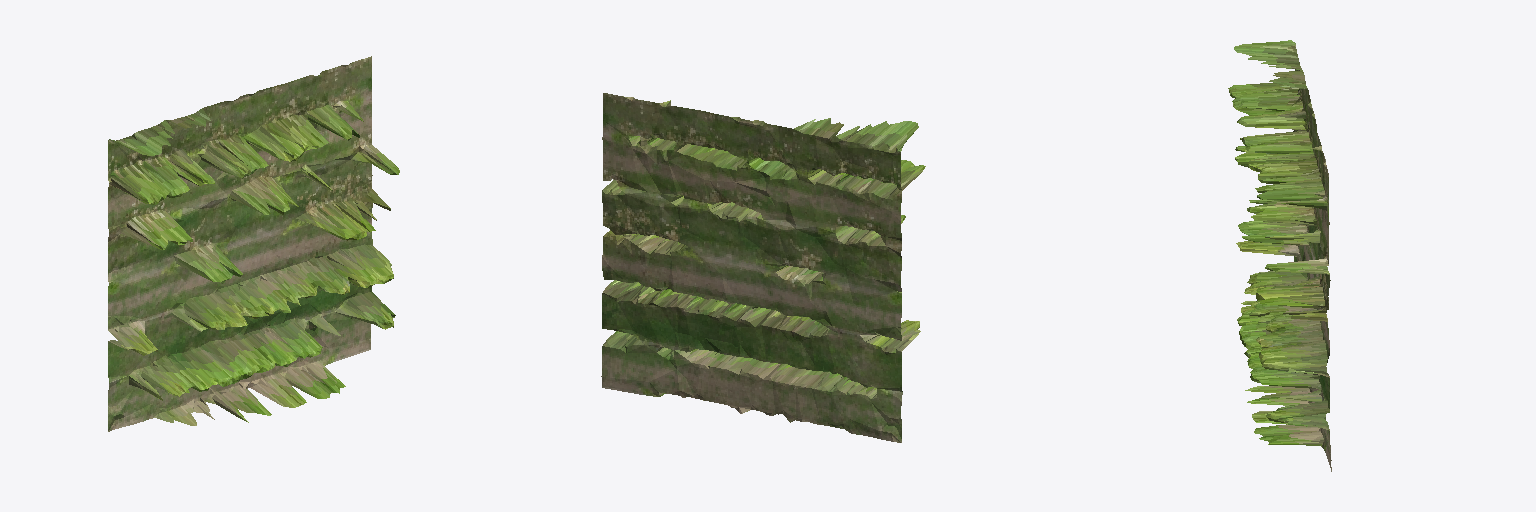
3 views of the same model, side by side, from view 1: azimuth 30°, elevation 25°; view 2: azimuth 150°, elevation 25°; view 3: azimuth 270°, elevation 25° (orthographic).
Visible parts, largest first — view 1: grp1; view 2: grp1; view 3: grp1.
Part boxes in pixels (left/top/right/bottom): grp1: left=108, top=56, right=399, bottom=431; grp1: left=601, top=93, right=925, bottom=442; grp1: left=1228, top=40, right=1331, bottom=471.
Size of the model in its own units: 10 by 10 by 3.17.
Materials: 1 (1 with a texture image).